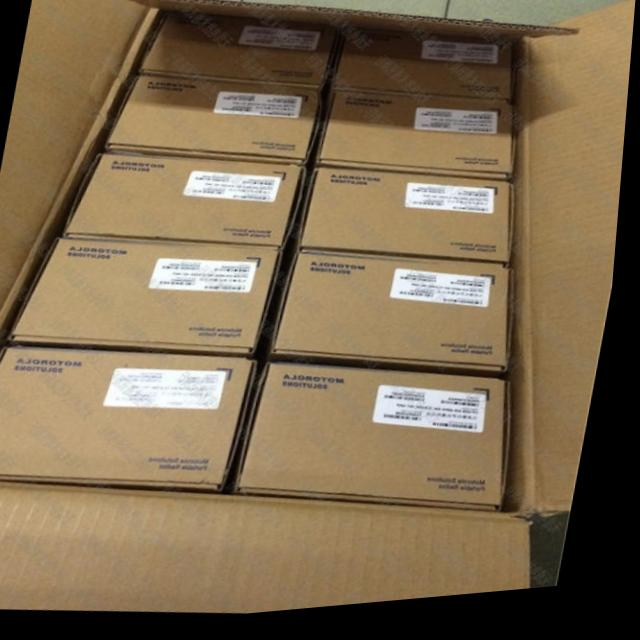box: (243, 366, 518, 521), (0, 346, 264, 497), (13, 237, 288, 361), (275, 256, 519, 381), (66, 153, 308, 252), (302, 172, 518, 273), (107, 77, 324, 171), (318, 95, 518, 192), (140, 15, 339, 94), (334, 34, 516, 109)
